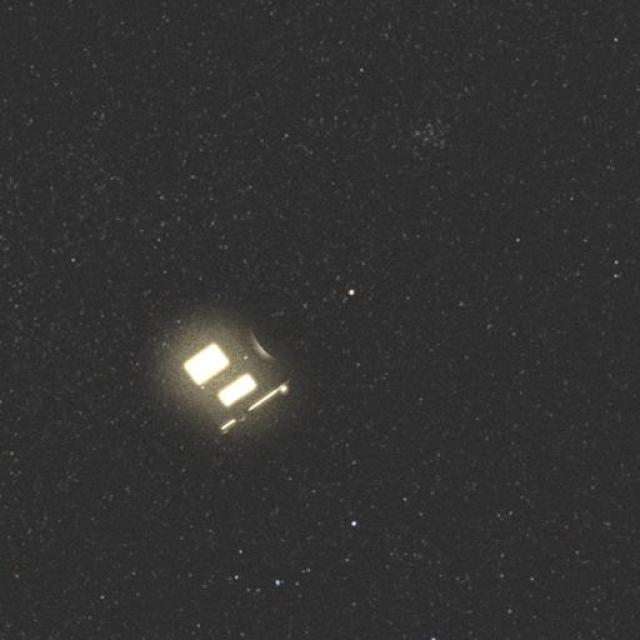proba_3_ocs: (153, 291, 337, 438)
